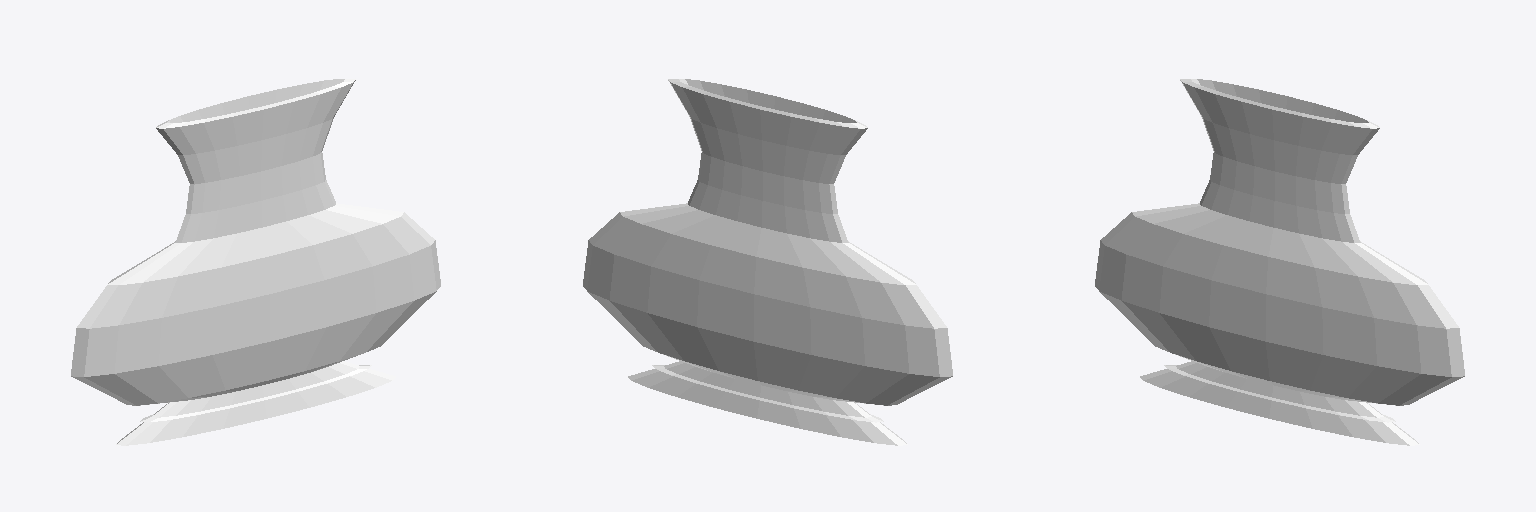
File: bluevase1.obj
3 renders of one model, left to right at view 1: azimuth 30°, elevation 25°; view 2: azimuth 150°, elevation 25°; view 3: azimuth 330°, elevation 25°, orthographic.
Parts seen in each view (by area): view 1: test; view 2: test; view 3: test.
Part boxes in pixels (bbox=[...]): test: bbox=[71, 79, 440, 445]; test: bbox=[583, 79, 952, 445]; test: bbox=[1095, 79, 1464, 445].
Size of the model in its own units: 4.77 by 3.81 by 0.644.